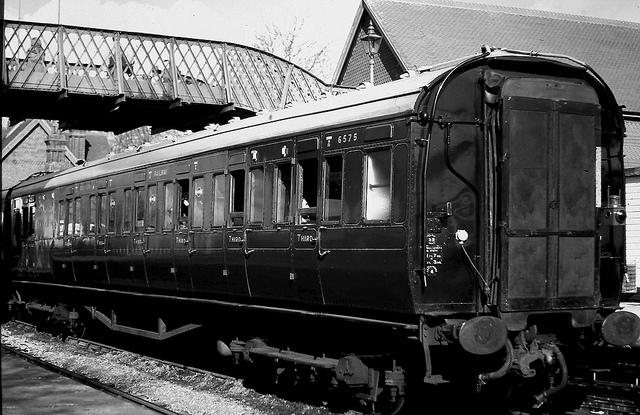Train: (6, 49, 640, 409)
